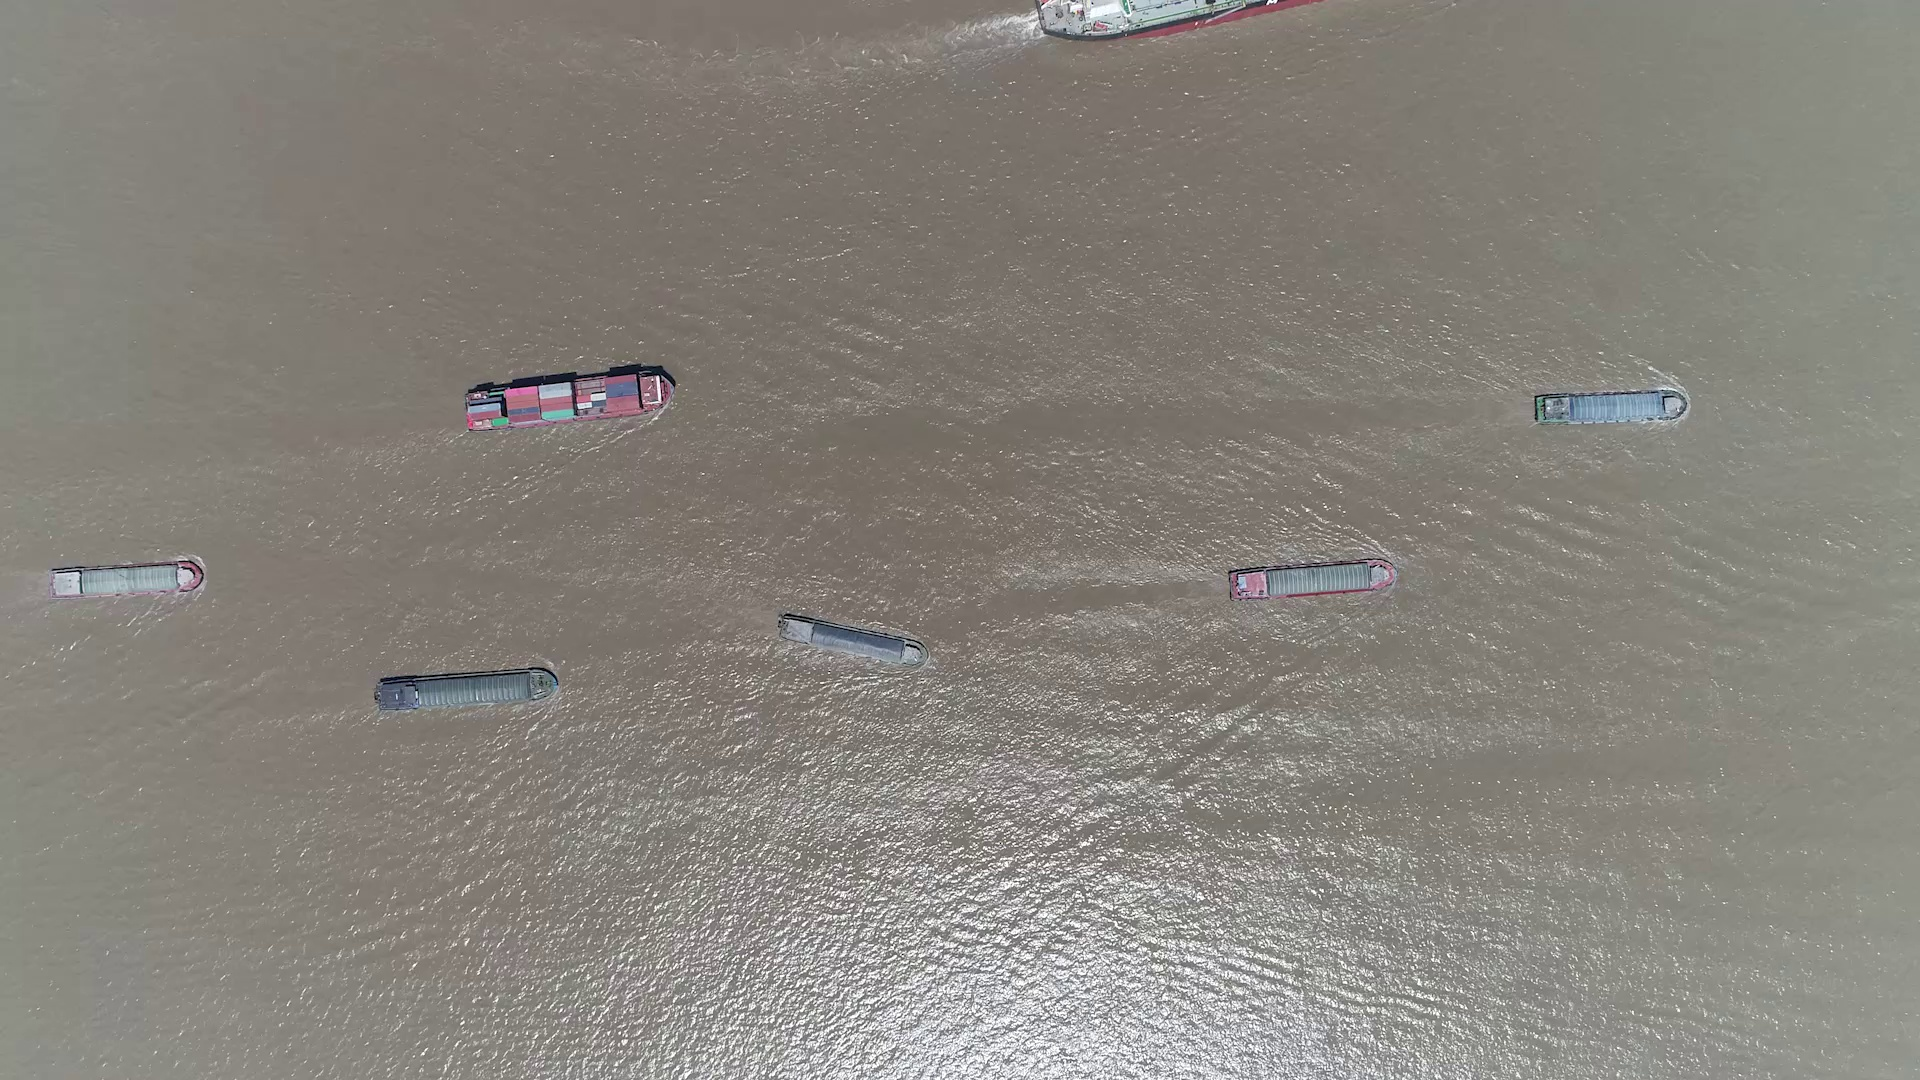ship: (463, 367, 676, 431), (1036, 1, 1312, 40), (376, 667, 556, 713), (778, 613, 928, 669), (1232, 556, 1396, 601), (49, 563, 204, 597), (1536, 392, 1687, 425)
